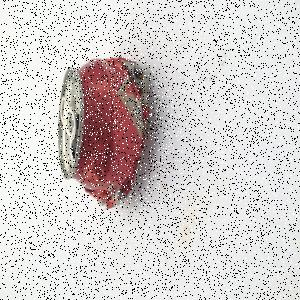Can: (58, 56, 151, 212)
